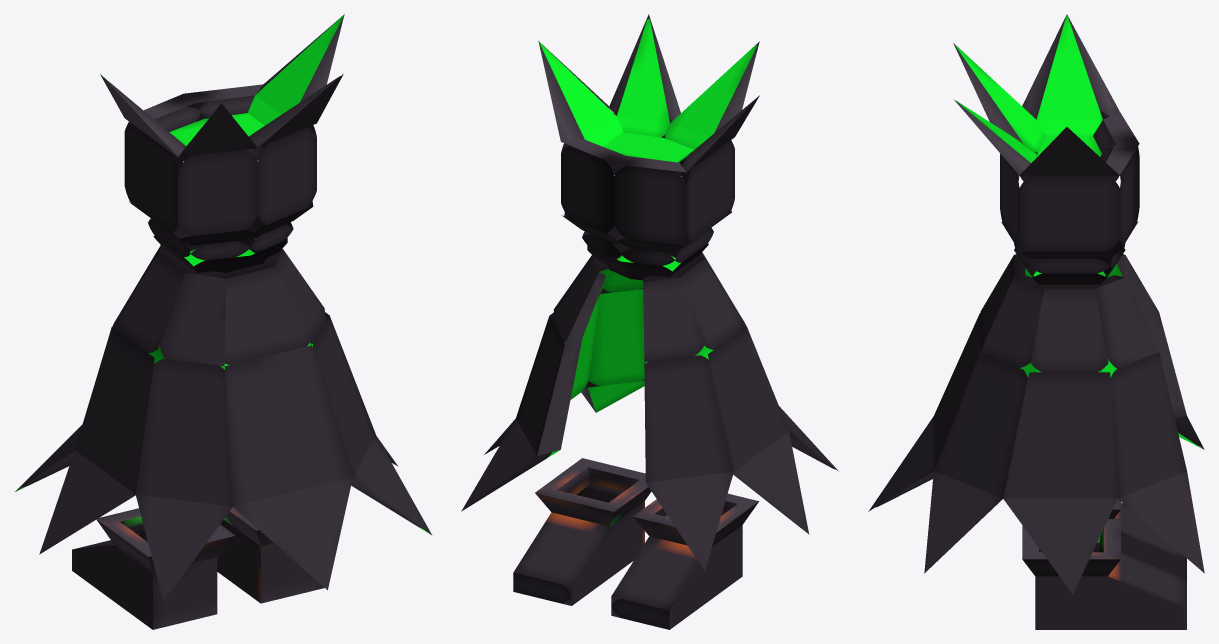
The model's file is WiccanBody.obj.
The picture shows the model from 3 angles, left to right: view 1: azimuth 30°, elevation 25°; view 2: azimuth 150°, elevation 25°; view 3: azimuth 270°, elevation 25°; orthographic projection. The views are drawn at different scales.
Visible parts, largest first — view 1: tube, cuboid; view 2: cuboid, tube; view 3: tube, cuboid.
Part boxes in pixels (x1,y1,x2,y2): tube: (15, 230, 432, 600); cuboid: (72, 14, 344, 629); cuboid: (513, 14, 759, 629); tube: (461, 243, 838, 570); tube: (868, 254, 1204, 593); cuboid: (953, 14, 1186, 629).
Bounding box in the file's own units: 0.8737 × 1.28 × 0.7527.
Materials: 1 (1 with a texture image).
